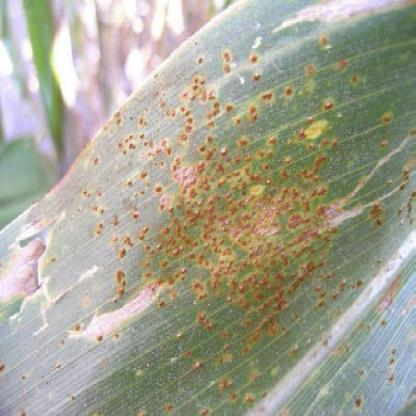corn rust leaf: (1, 1, 414, 415)
